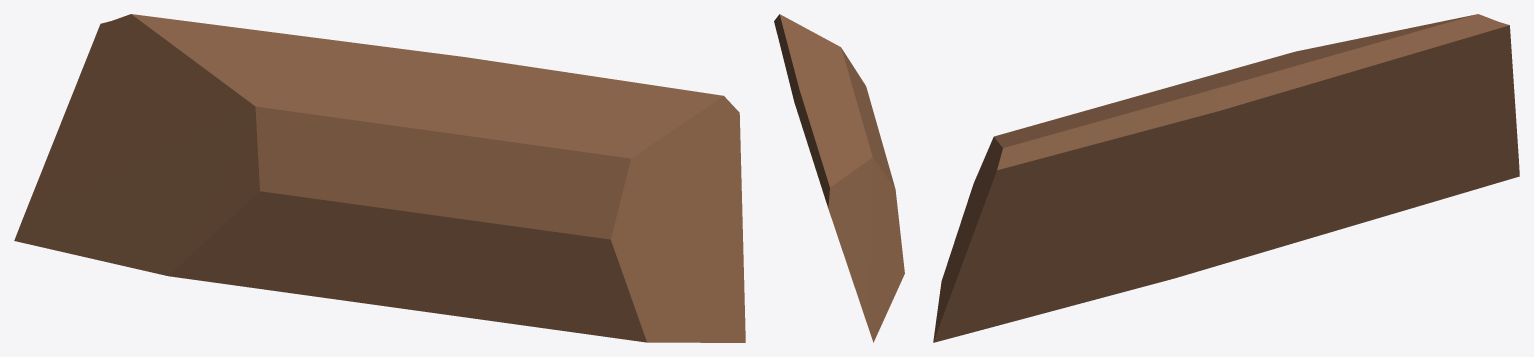
The model's file is WoodCellCube_003_cell_028.fbx.
3 views of the same model, side by side, from view 1: azimuth 30°, elevation 25°; view 2: azimuth 150°, elevation 25°; view 3: azimuth 270°, elevation 25° (orthographic). The views are drawn at different scales.
Visible parts, largest first — view 1: WoodCellCube_003_cell_028; view 2: WoodCellCube_003_cell_028; view 3: WoodCellCube_003_cell_028.
Part boxes in pixels (bbox=[...]): WoodCellCube_003_cell_028: bbox=[14, 14, 745, 342]; WoodCellCube_003_cell_028: bbox=[774, 14, 904, 342]; WoodCellCube_003_cell_028: bbox=[933, 14, 1519, 342].
Bounding box in the file's own units: 0.5268 × 0.2239 × 0.4322.
1 material, 1 textured.
